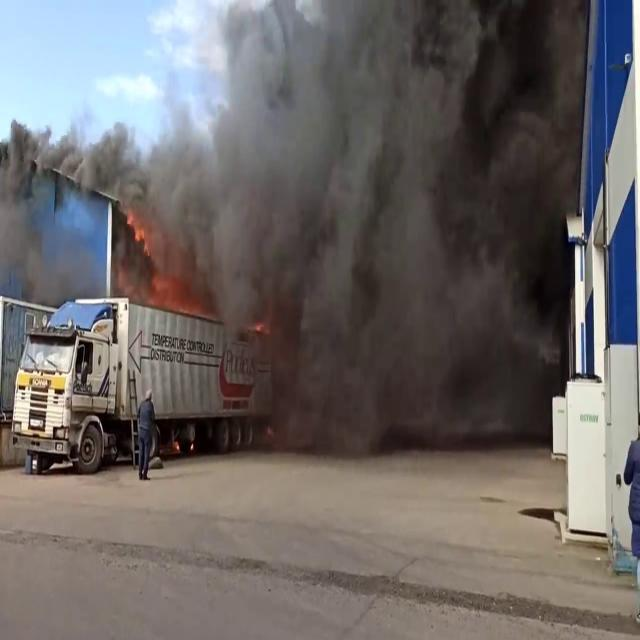Smoke: (167, 0, 577, 454), (0, 78, 194, 311)
